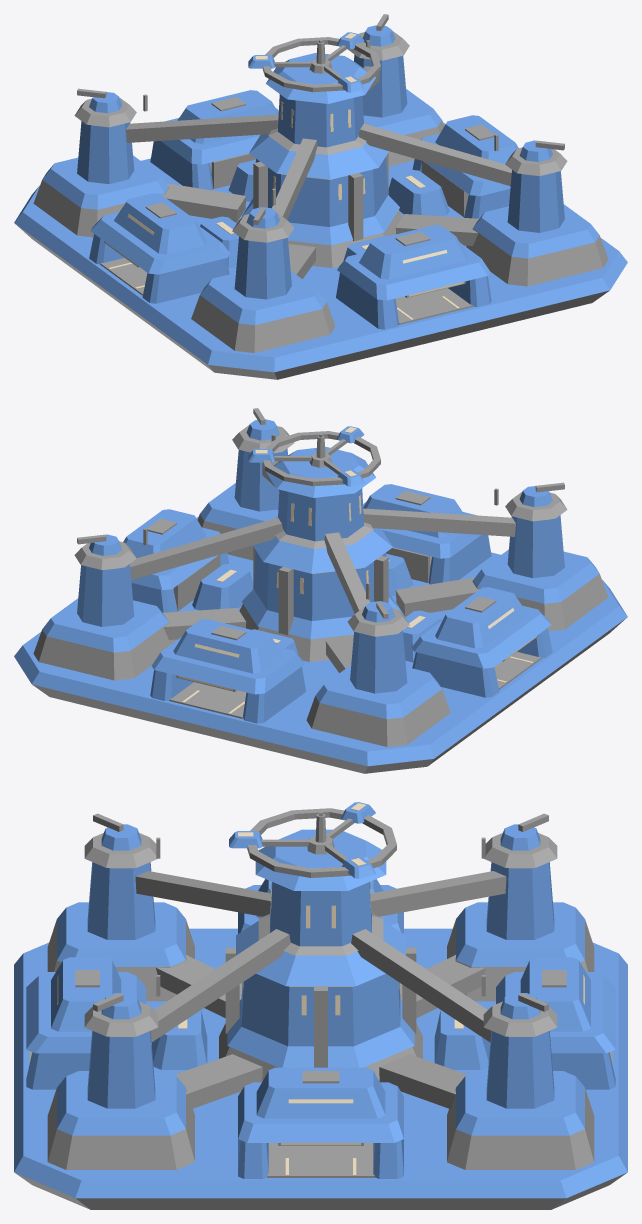
Rendered from CommandStation_L4.glb.
3 renders of one model, top to bottom at view 1: azimuth 30°, elevation 25°; view 2: azimuth 150°, elevation 25°; view 3: azimuth 270°, elevation 25°, orthographic. The views are drawn at different scales.
Visible parts, largest first — view 1: Citadel deck, Undercut armor apron, Bastion armored footing -1 -1, Command keep, Bastion armored footing 1 -1, Logistics gallery 0, Bastion armor cap 1 -1, Bastion armor cap -1 -1, Bastion armor cap -1 1, Upper command lantern, Dock armored roof 0, Logistics gallery 3 (+45 smaller); view 2: Citadel deck, Undercut armor apron, Bastion armored footing -1 1, Command keep, Bastion armored footing 1 1, Logistics gallery 2, Bastion armor cap 1 1, Bastion armor cap -1 1, Bastion armor cap -1 -1, Upper command lantern, Dock armored roof 2, Logistics gallery 3 (+45 smaller); view 3: Citadel deck, Command keep, Undercut armor apron, Bastion armored footing 1 -1, Bastion armored footing 1 1, Logistics gallery 1, Bastion armor cap 1 -1, Bastion armor cap 1 1, Dock armored roof 1, Bastion armor cap -1 -1, Bastion armor cap -1 1, Upper command lantern (+43 smaller).
Part boxes in pixels (x1=…): Citadel deck: x1=14, y1=122, x2=627, y2=372; Undercut armor apron: x1=15, y1=224, x2=609, y2=379; Bastion armored footing -1 -1: x1=191, y1=295, x2=335, y2=352; Command keep: x1=255, y1=156, x2=388, y2=226; Bastion armored footing 1 -1: x1=466, y1=228, x2=608, y2=286; Logistics gallery 0: x1=359, y1=225, x2=468, y2=279; Bastion armor cap 1 -1: x1=473, y1=204, x2=599, y2=258; Bastion armor cap -1 -1: x1=200, y1=271, x2=326, y2=325; Bastion armor cap -1 1: x1=42, y1=155, x2=168, y2=209; Upper command lantern: x1=277, y1=94, x2=363, y2=147; Dock armored roof 0: x1=337, y1=243, x2=490, y2=300; Logistics gallery 3: x1=114, y1=193, x2=206, y2=254; Citadel deck: x1=14, y1=516, x2=627, y2=766; Undercut armor apron: x1=32, y1=618, x2=626, y2=773; Bastion armored footing -1 1: x1=306, y1=689, x2=450, y2=746; Command keep: x1=253, y1=550, x2=386, y2=620; Bastion armored footing 1 1: x1=33, y1=622, x2=175, y2=680; Logistics gallery 2: x1=173, y1=619, x2=282, y2=673; Bastion armor cap 1 1: x1=42, y1=598, x2=168, y2=652; Bastion armor cap -1 1: x1=315, y1=665, x2=441, y2=719; Bastion armor cap -1 -1: x1=473, y1=549, x2=599, y2=603; Upper command lantern: x1=278, y1=488, x2=364, y2=541; Dock armored roof 2: x1=151, y1=637, x2=304, y2=694; Logistics gallery 3: x1=435, y1=587, x2=527, y2=648; Citadel deck: x1=14, y1=928, x2=627, y2=1198; Command keep: x1=241, y1=974, x2=400, y2=1046; Undercut armor apron: x1=15, y1=1173, x2=626, y2=1209; Bastion armored footing 1 -1: x1=47, y1=1088, x2=194, y2=1169; Bastion armored footing 1 1: x1=447, y1=1088, x2=594, y2=1169; Logistics gallery 1: x1=256, y1=1067, x2=385, y2=1118; Bastion armor cap 1 -1: x1=57, y1=1071, x2=185, y2=1135; Bastion armor cap 1 1: x1=456, y1=1071, x2=584, y2=1135; Dock armored roof 1: x1=238, y1=1082, x2=403, y2=1142; Bastion armor cap -1 -1: x1=57, y1=902, x2=185, y2=966; Bastion armor cap -1 1: x1=456, y1=902, x2=584, y2=966; Upper command lantern: x1=270, y1=882, x2=371, y2=946.
Size of the model in its own units: 200 by 118 by 200.
